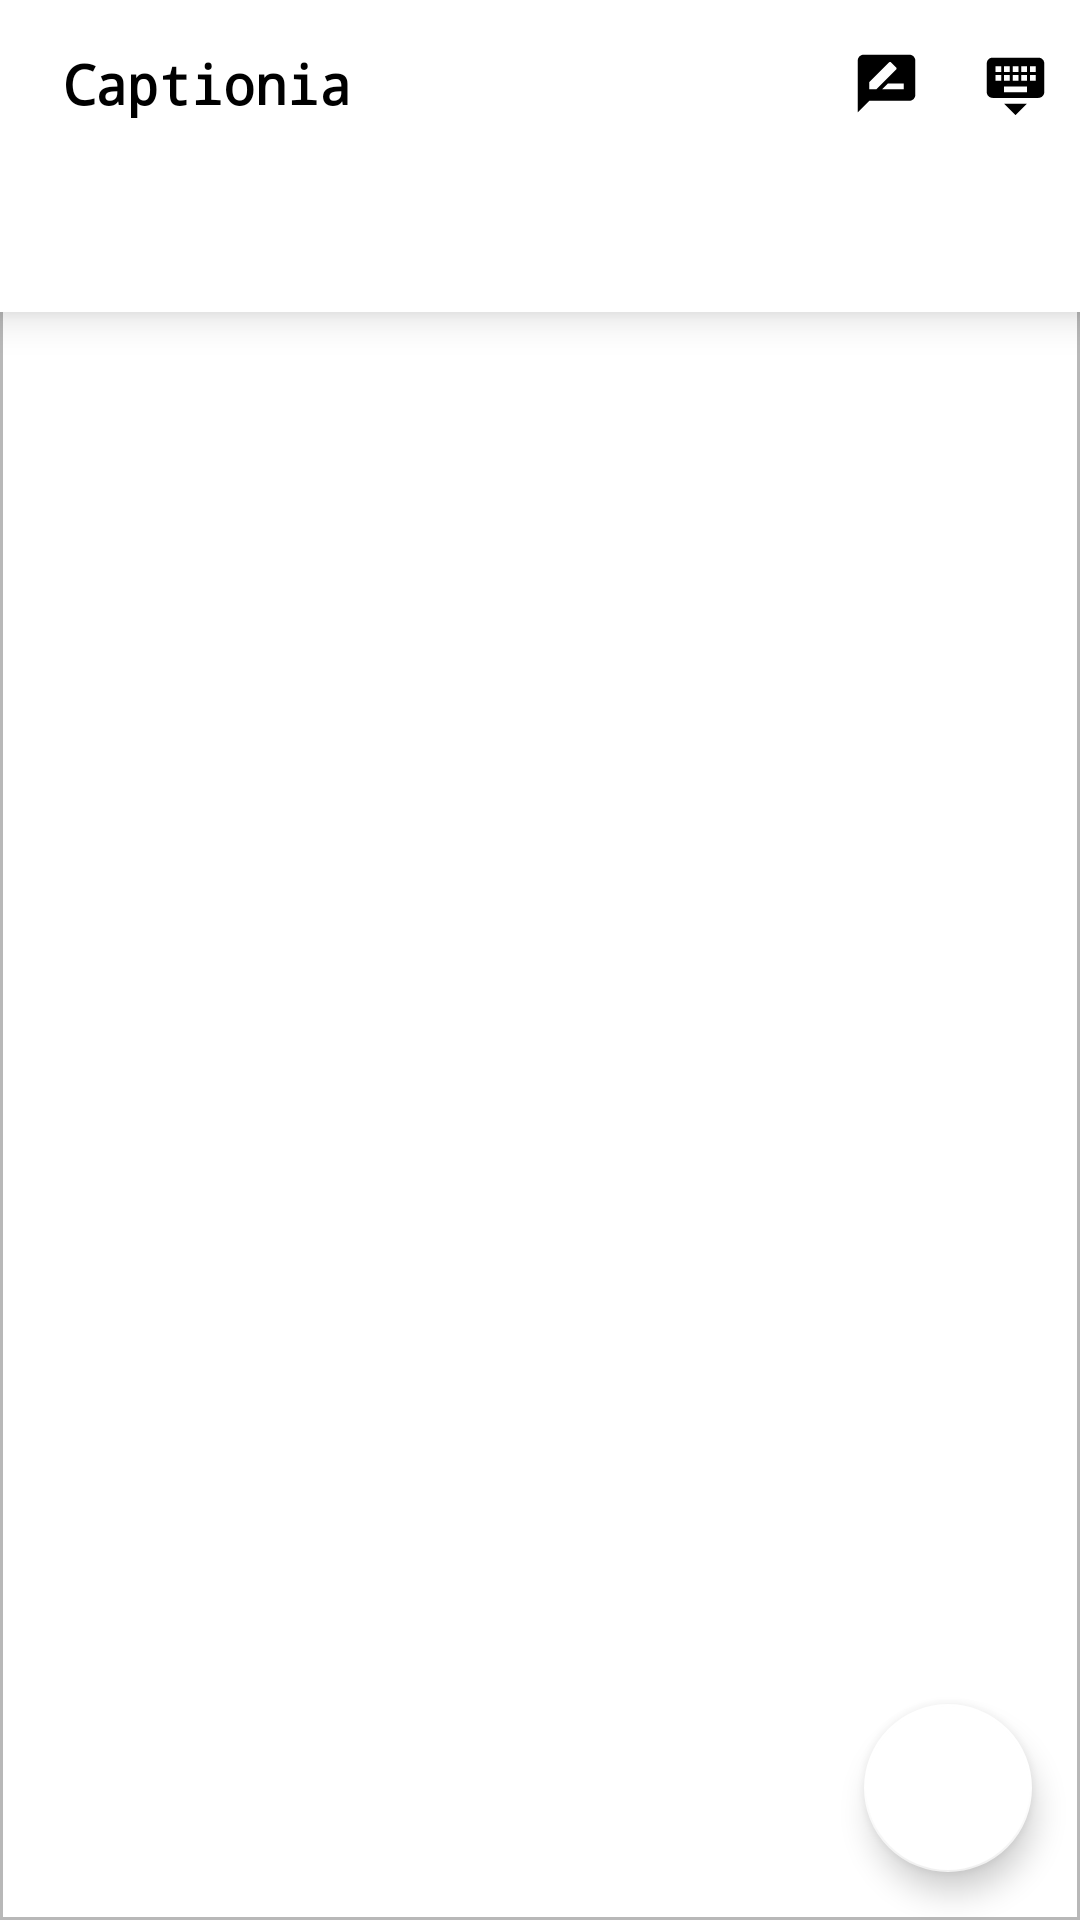

Point at icon controls on the screen. Image size 1080*1920, points as (x,y).
keyboard hide: (1015,86)
rate review: (886,83)
